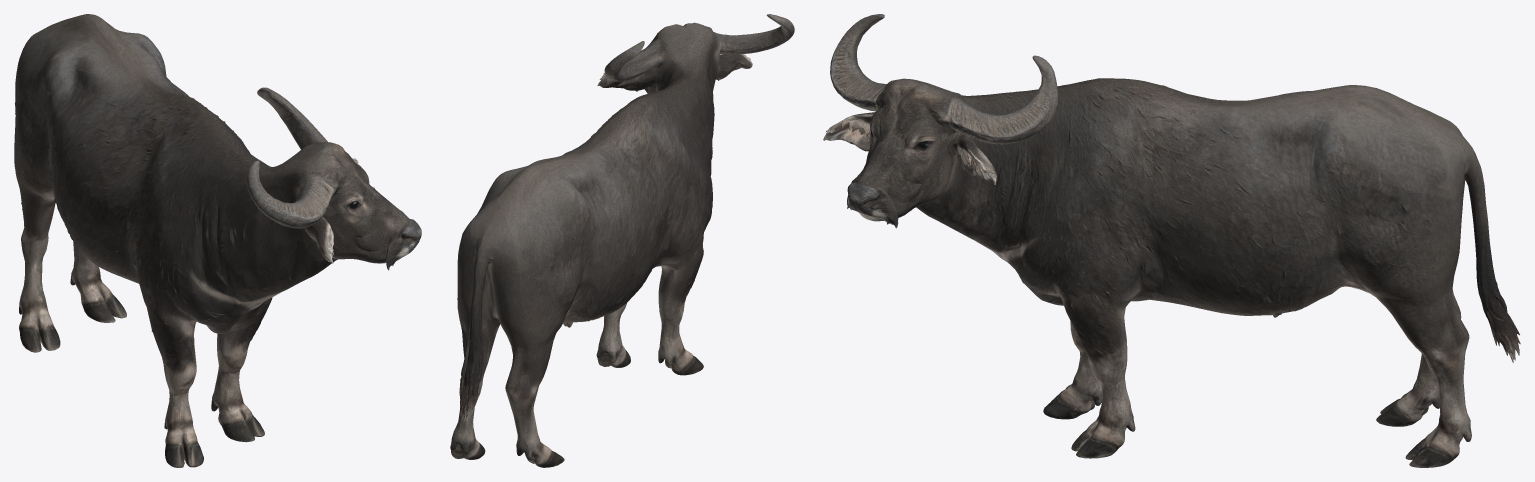
File: remeshed-buffalo.glb
3 views of the same model, side by side, from view 1: azimuth 30°, elevation 25°; view 2: azimuth 150°, elevation 25°; view 3: azimuth 270°, elevation 25° (orthographic). The views are drawn at different scales.
Parts seen in each view (by area): view 1: output_unwrapped; view 2: output_unwrapped; view 3: output_unwrapped.
Part boxes in pixels (x1,y1,x2,y2): output_unwrapped: (14, 14, 421, 467); output_unwrapped: (450, 14, 794, 467); output_unwrapped: (823, 14, 1520, 467).
Size of the model in its own units: 0.5784 by 1.18 by 1.9.
Materials: 1 (1 with a texture image).
